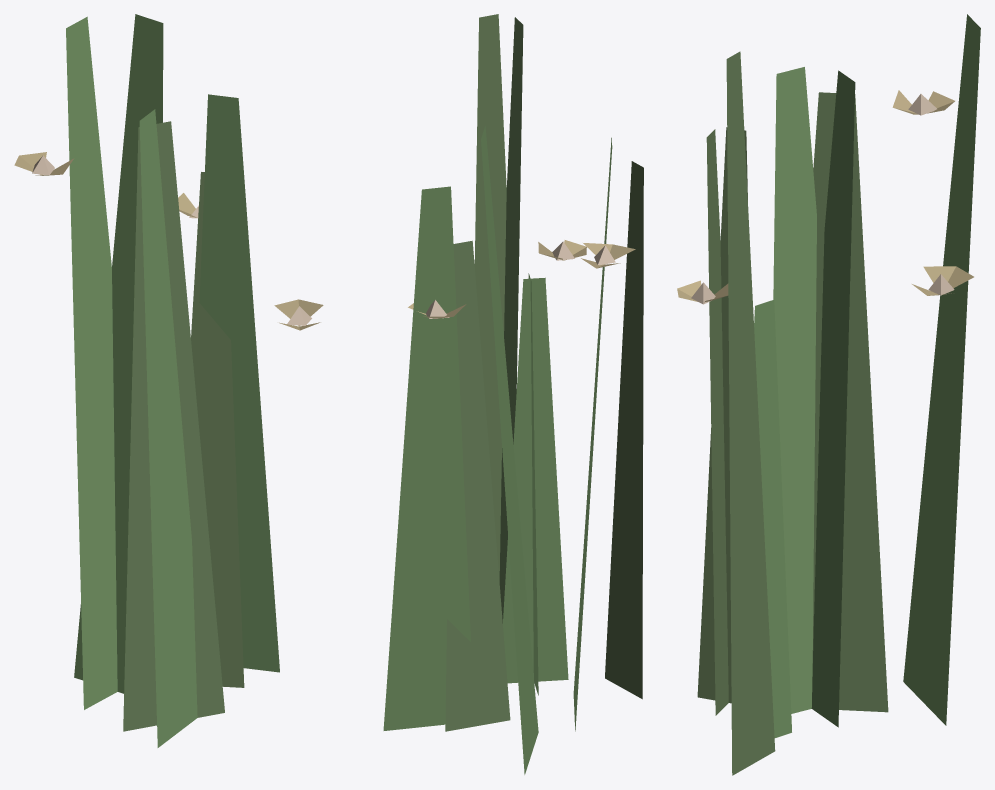
File: cao.luwei__summer.glb
The picture shows the model from 3 angles, left to right: view 1: azimuth 30°, elevation 25°; view 2: azimuth 150°, elevation 25°; view 3: azimuth 270°, elevation 25°; orthographic projection. The views are drawn at different scales.
Visible parts, largest first — view 1: cao.luwei__summer; view 2: cao.luwei__summer; view 3: cao.luwei__summer.
Boxes of the visible parts, <box> form: cao.luwei__summer: <box>14,14,323,747</box>; cao.luwei__summer: <box>383,14,643,774</box>; cao.luwei__summer: <box>677,14,980,775</box>.
Bounding box in the file's own units: 0.8967 × 2.41 × 0.9459.
